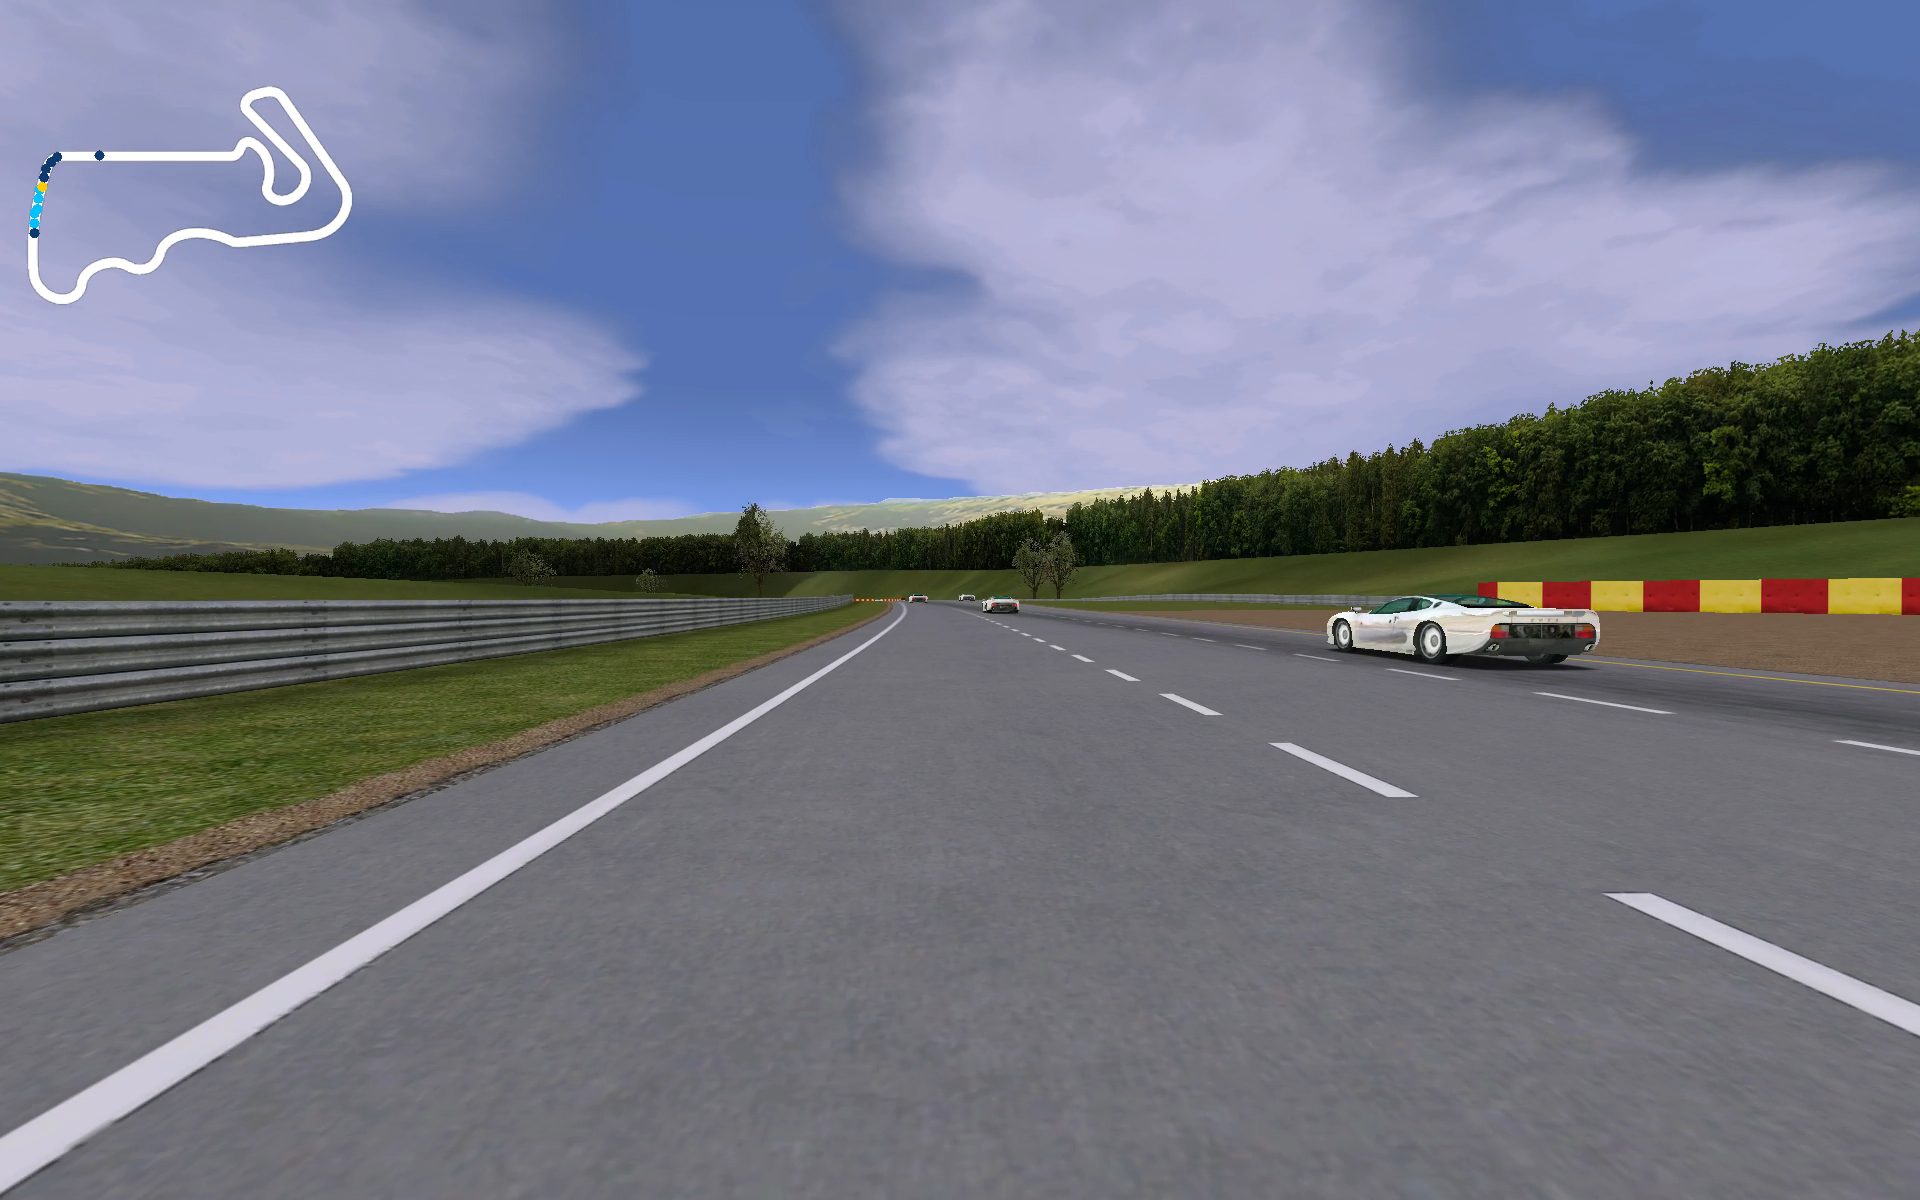car: (1326, 594, 1605, 664), (979, 594, 1026, 612)
